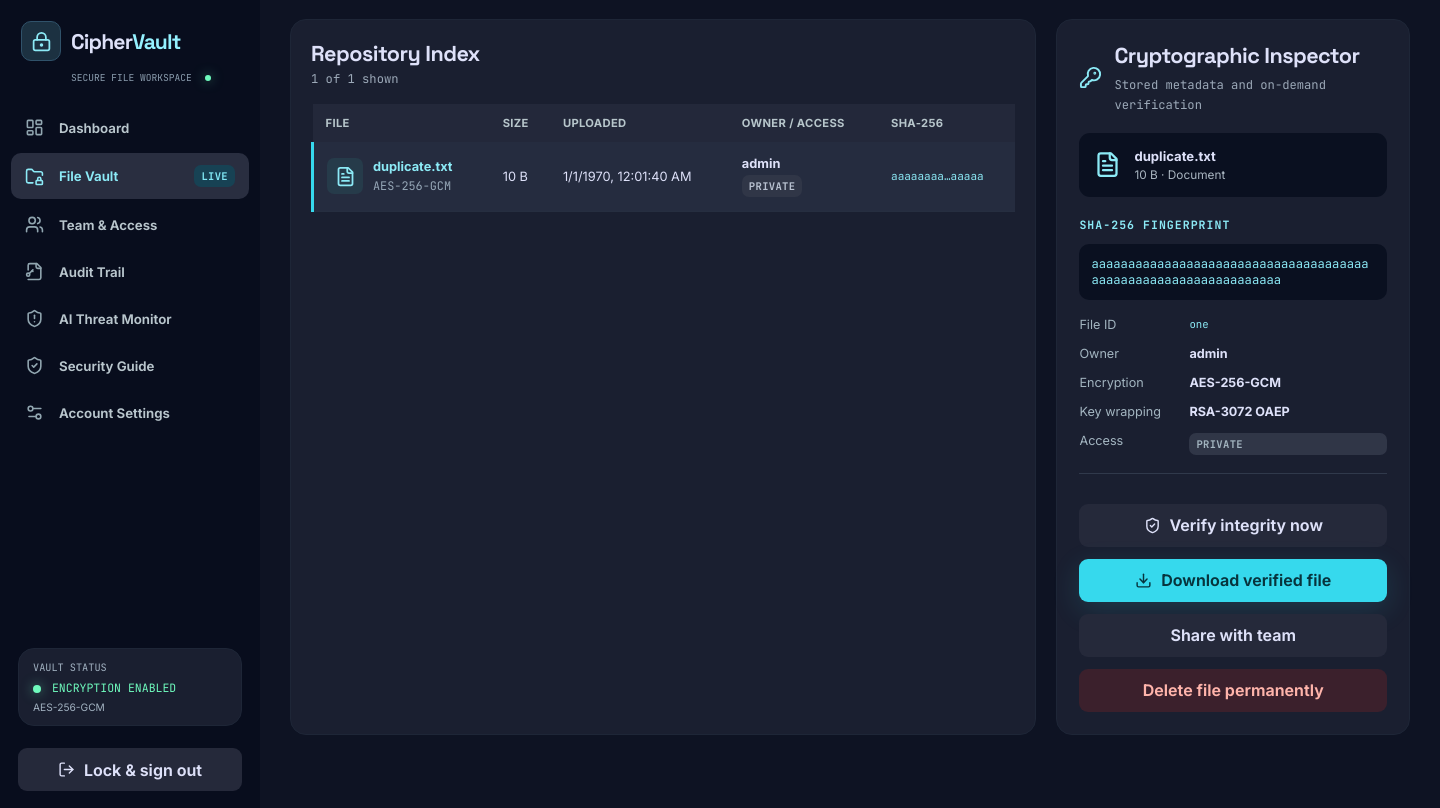
Test: a failed recheck removes an earlier successful verification indicator
The image size is (1440, 808).
(page scrolled)
expect the heading "Repository Index" is shown: met, box left=311, top=40, right=480, bottom=66
Click the button "Verify integrity now" at (1233, 525), box left=1079, top=504, right=1387, bottom=546
(page scrolled)
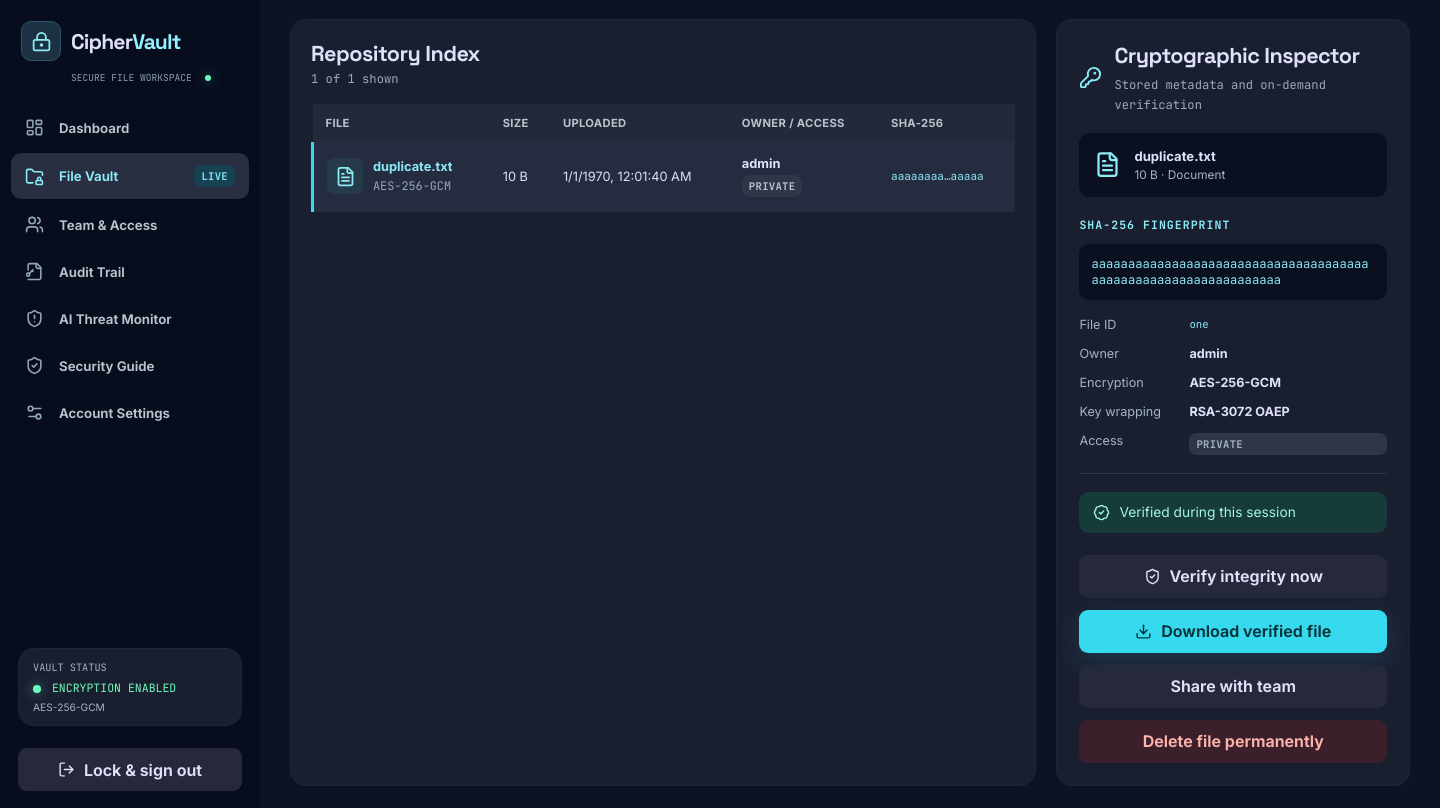
expect the text "Verified during this session" is shown: met, box left=1079, top=492, right=1387, bottom=532
Click the button "Verify integrity now" at (1233, 576), box left=1079, top=554, right=1387, bottom=598
(page scrolled)
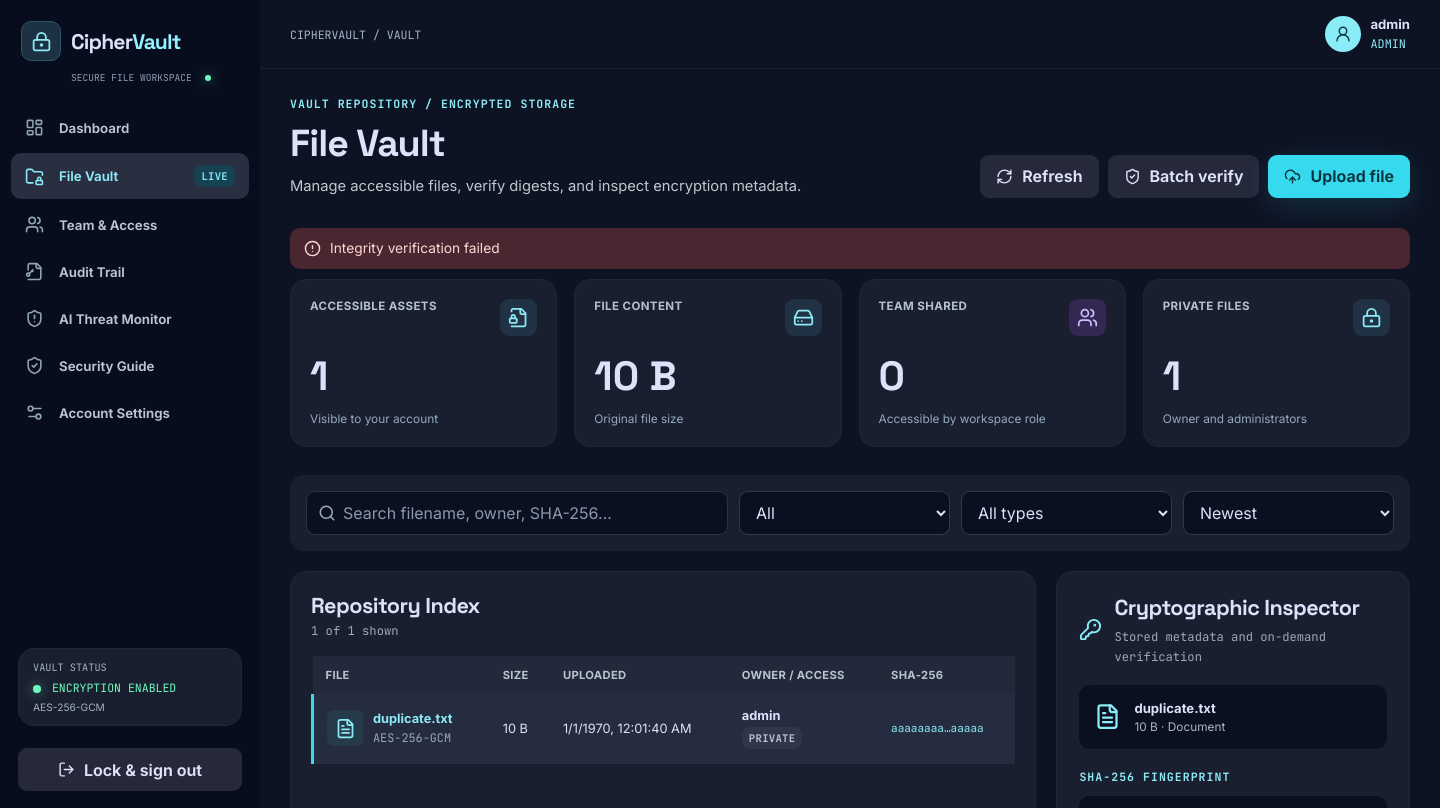
expect the text "Integrity verification failed" is shown: met, box left=290, top=228, right=1410, bottom=268
expect the text "Verified during this session" is gone: met
